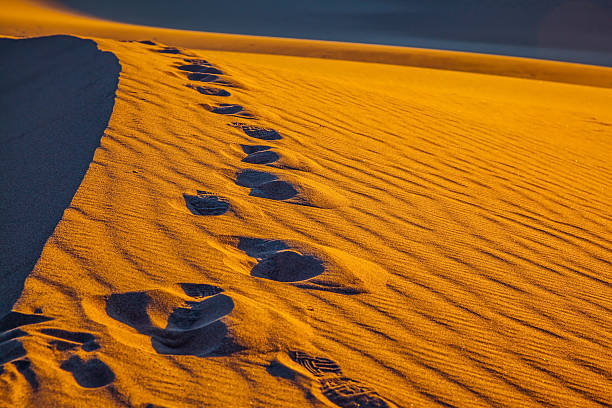animal_footprint: (106, 284, 233, 355), (281, 350, 394, 407), (39, 328, 114, 387), (0, 311, 51, 390), (237, 237, 324, 281), (320, 377, 389, 407), (235, 169, 298, 200), (60, 355, 114, 387), (40, 328, 99, 351), (289, 350, 340, 376), (183, 190, 229, 215), (229, 122, 281, 139), (201, 103, 253, 117), (242, 145, 279, 163), (187, 73, 235, 86), (187, 84, 230, 96), (178, 64, 222, 74), (240, 145, 271, 154), (184, 58, 212, 65), (156, 46, 181, 53), (137, 40, 155, 45)
